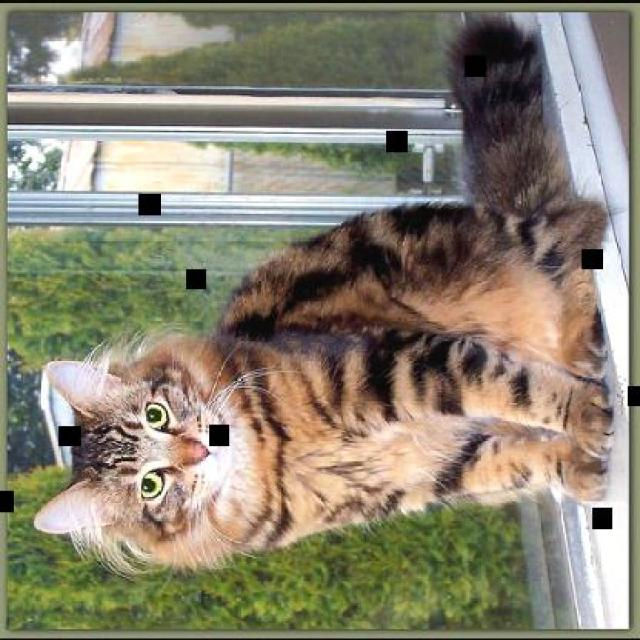unauthorized: (32, 12, 614, 580)
